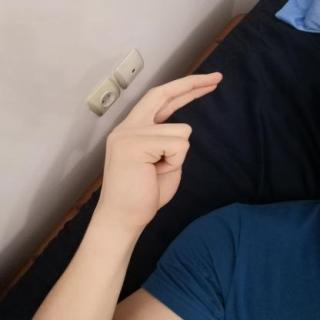ZAY: (83, 63, 236, 225)
